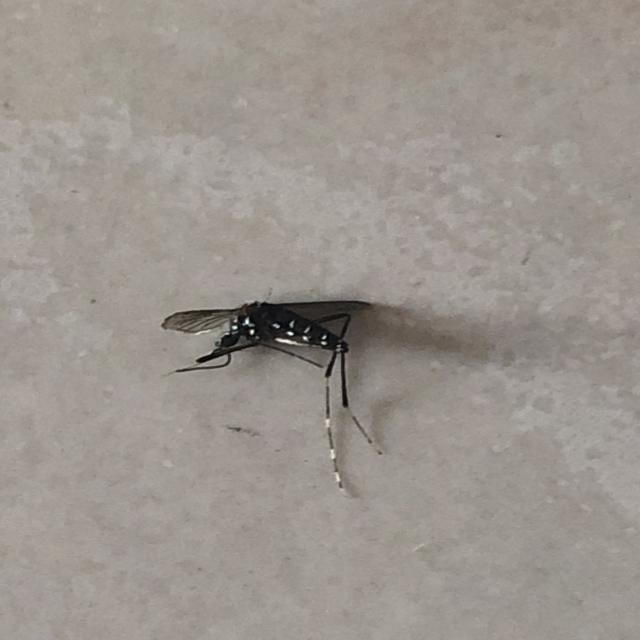albopictus: (161, 285, 385, 487)
